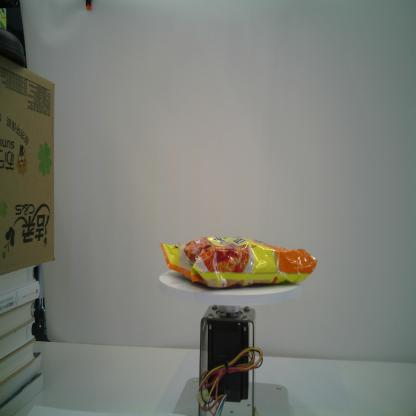Instant Noodles: (160, 236, 317, 289)
